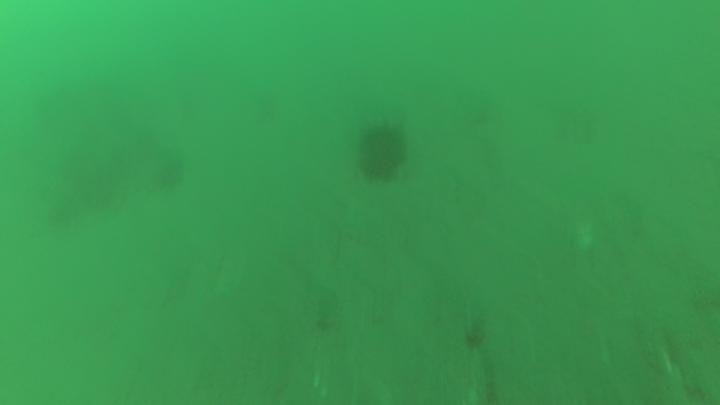echinus: (350, 116, 414, 186), (150, 153, 189, 194)
